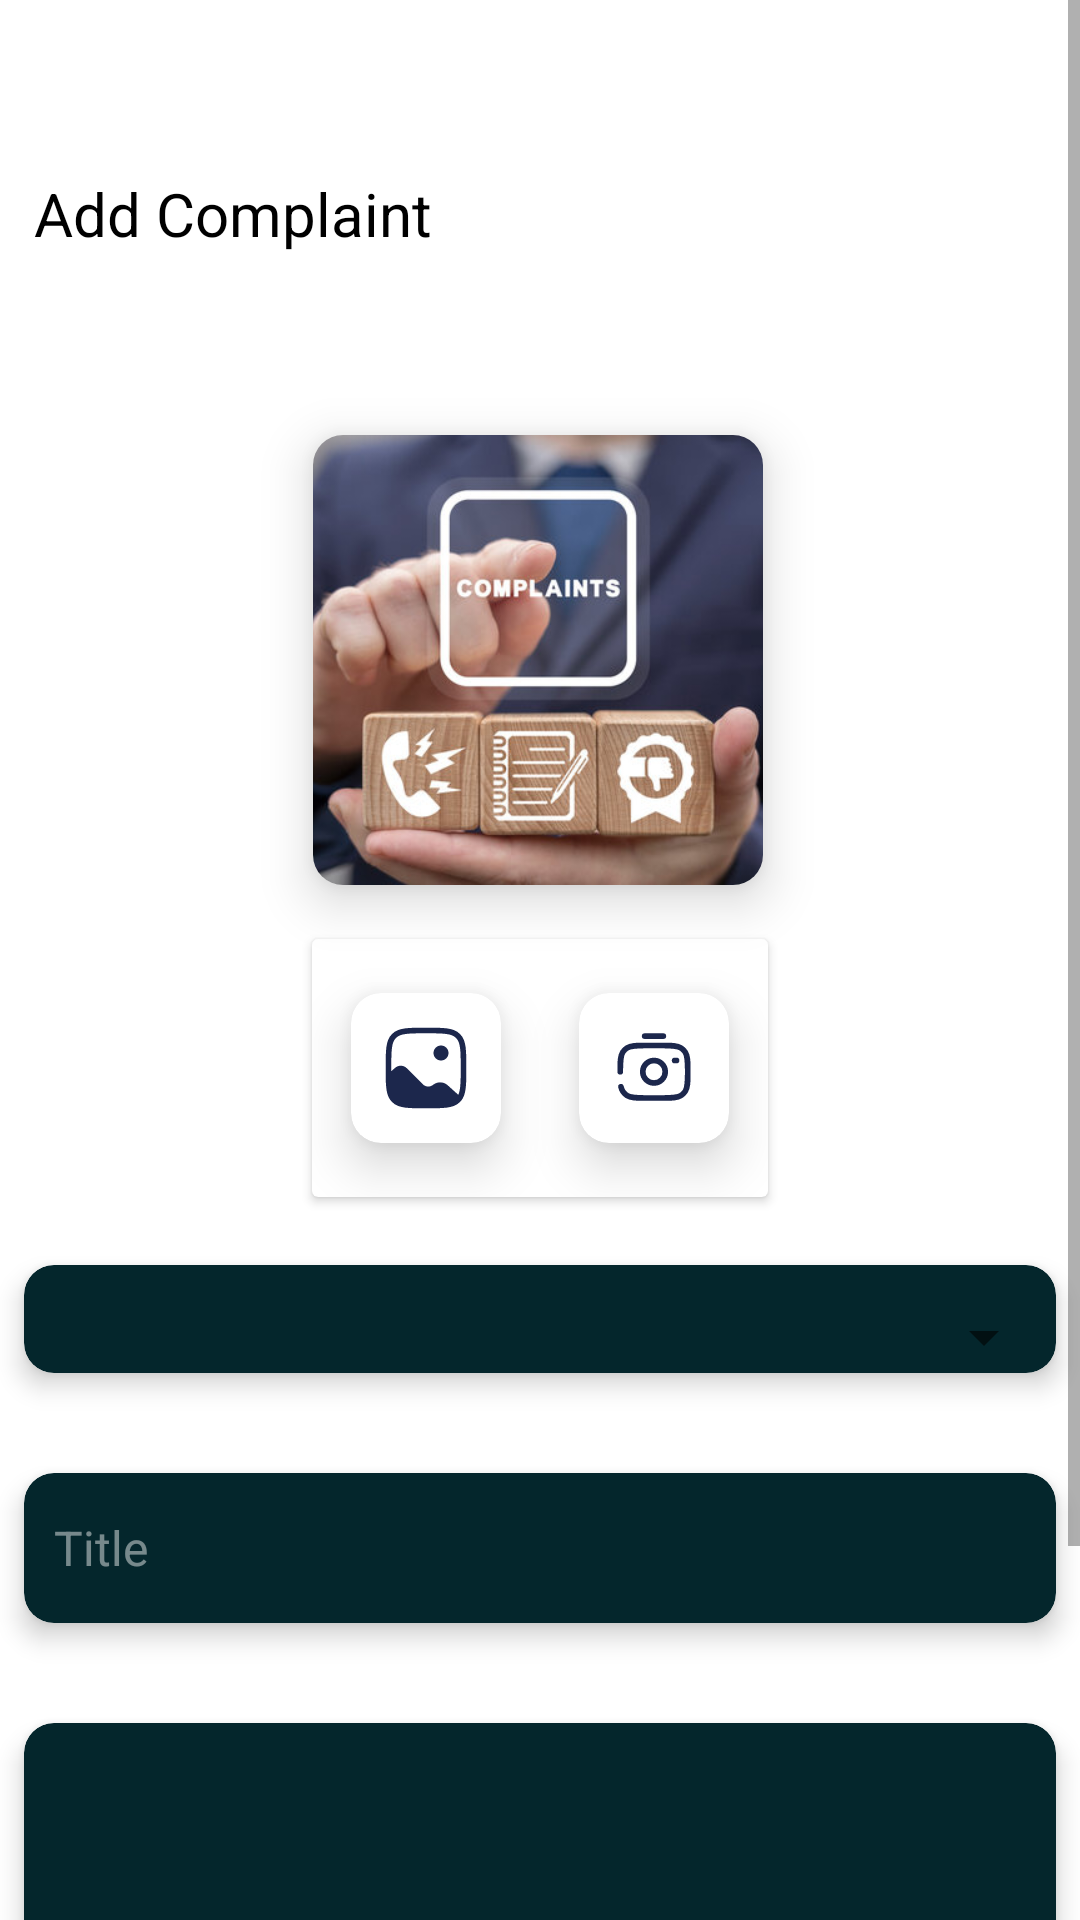

Icons on this 1080x1920 Android screen, each with its box as (x1, y1, x2, y2):
camera: (617, 1033, 691, 1101)
gallery: (385, 1027, 467, 1109)
